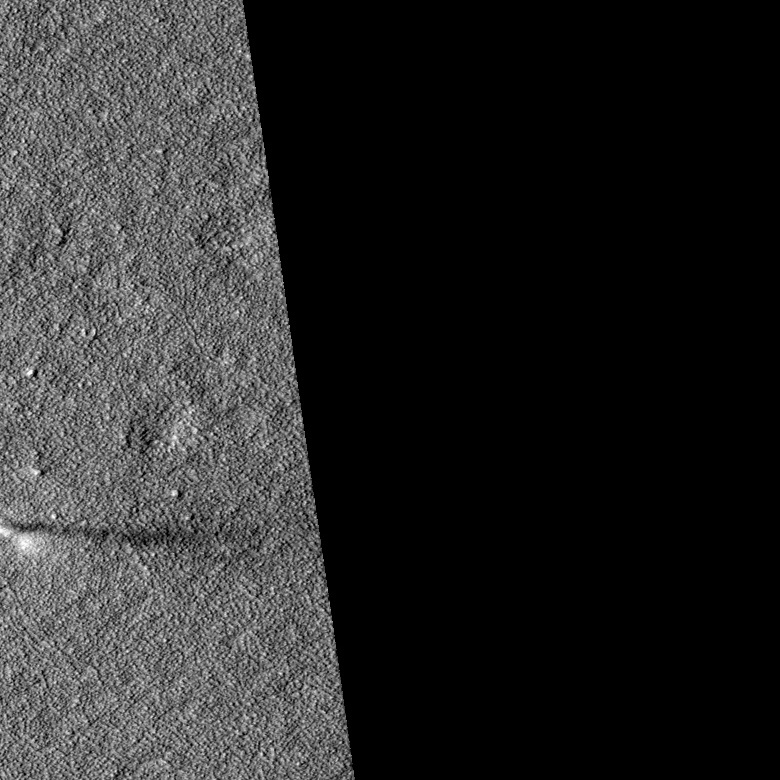dust_devil: (1, 516, 262, 557)
